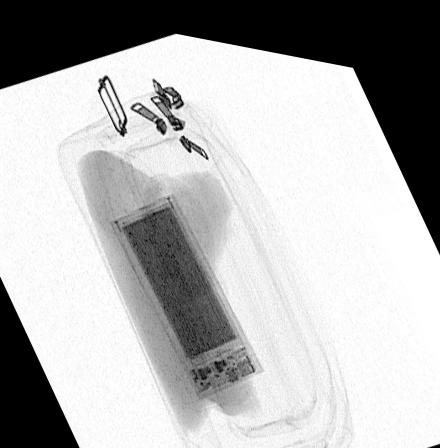Powerbank: (110, 188, 266, 393)
